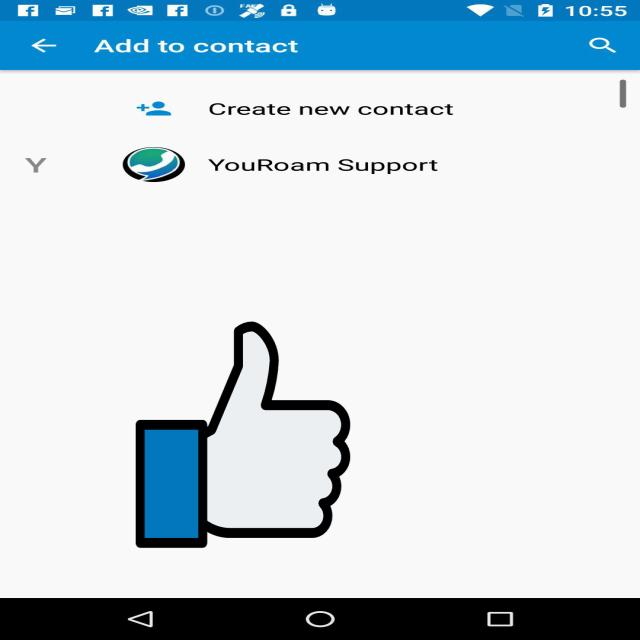privacy zuckering: (136, 316, 350, 552)
